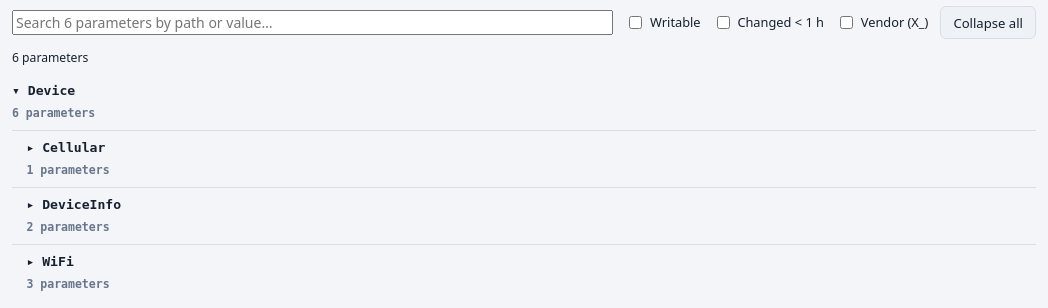
Test: ParameterBrowser › filters to writable parameters from discovery
Click the checkbox labelled "Writable" at (636, 23), box [629,16,642,29]
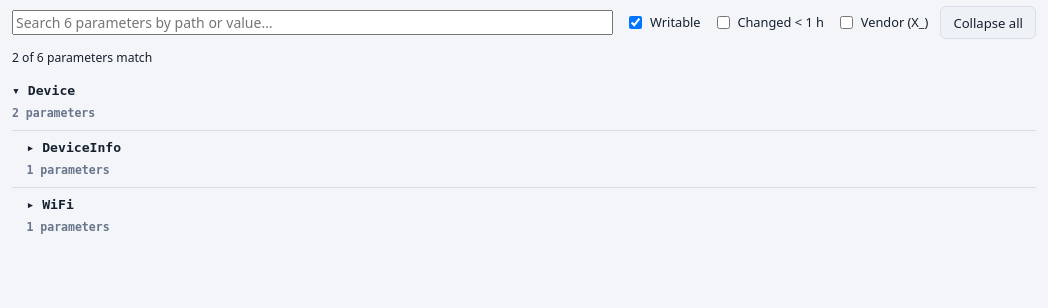
Check: the text "2 of 6 parameters match" is shown, box [12,49,152,66]
